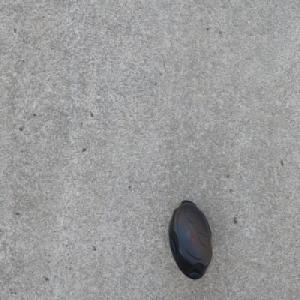FuelCap: (167, 197, 213, 282)
